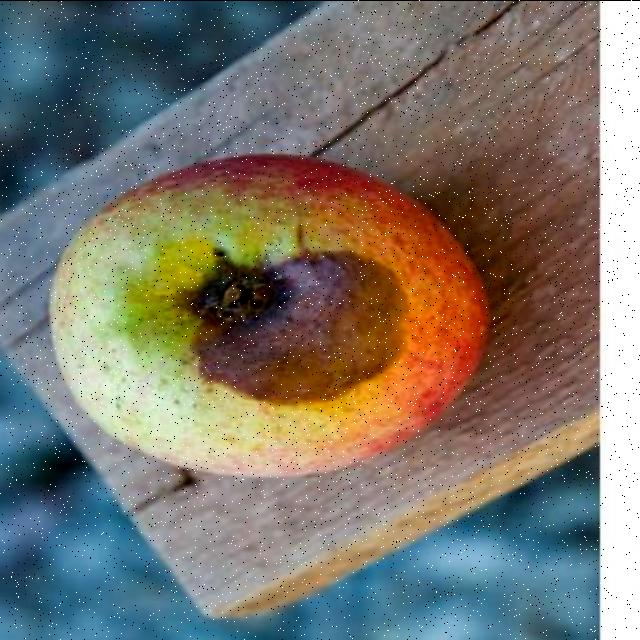ROT: (52, 116, 540, 480)
